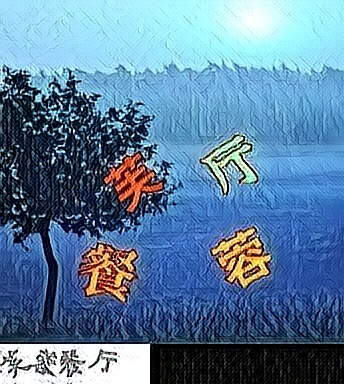B2CD: (77, 239, 141, 305)
C8D8: (211, 225, 275, 291)
CCFC: (198, 131, 262, 197)
DCBD: (103, 149, 167, 215)
